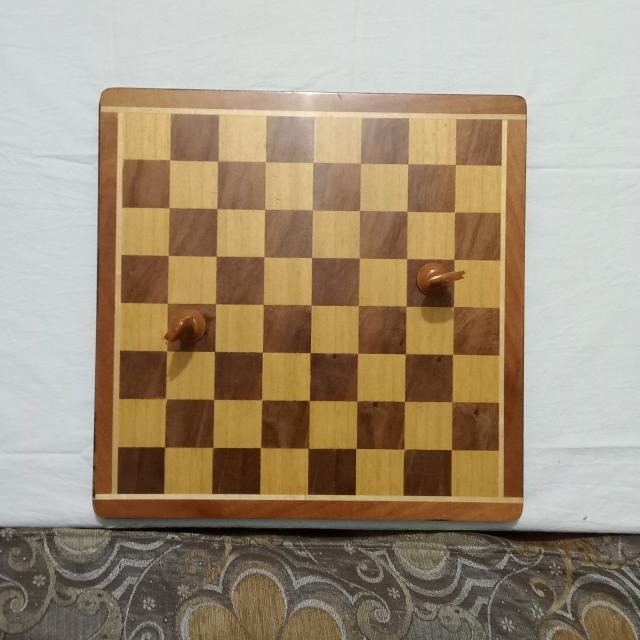white-knight: (415, 263, 467, 299), (162, 309, 208, 346)
